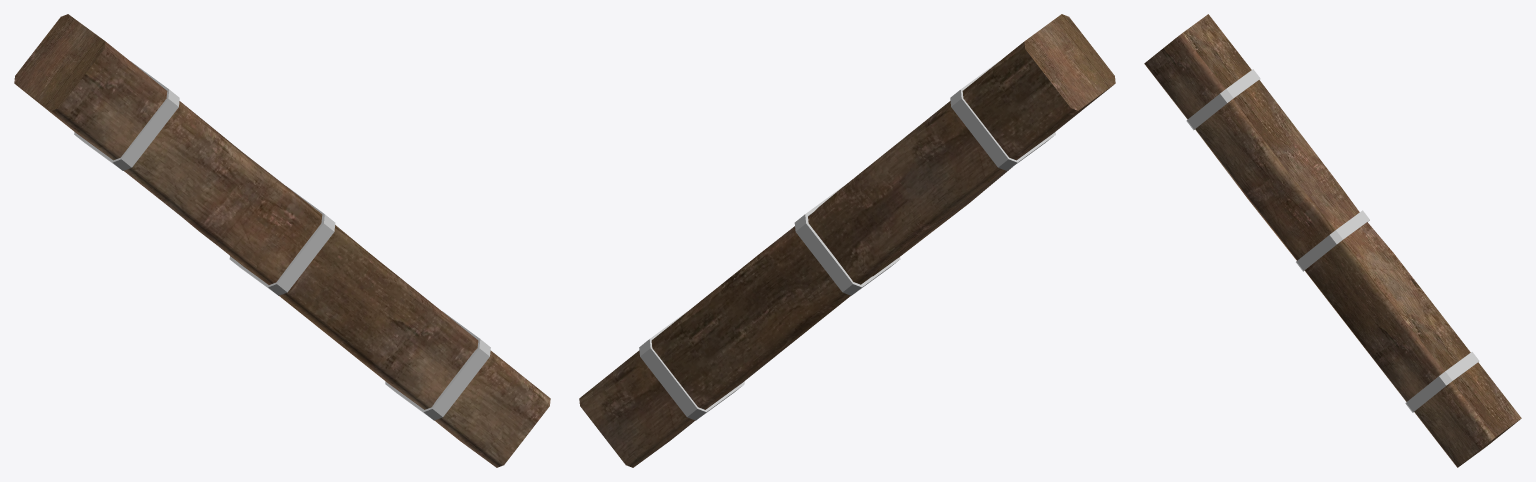
3 views of the same model, side by side, from view 1: azimuth 30°, elevation 25°; view 2: azimuth 150°, elevation 25°; view 3: azimuth 330°, elevation 25° (orthographic). The views are drawn at different scales.
Parts seen in each view (by area): view 1: SM_BB_T3_Extended_Beam_Thick_Large_Diagonal_LOD0; view 2: SM_BB_T3_Extended_Beam_Thick_Large_Diagonal_LOD0; view 3: SM_BB_T3_Extended_Beam_Thick_Large_Diagonal_LOD0.
Part boxes in pixels (x1,y1,x2,y2): SM_BB_T3_Extended_Beam_Thick_Large_Diagonal_LOD0: (14, 14, 550, 467); SM_BB_T3_Extended_Beam_Thick_Large_Diagonal_LOD0: (579, 14, 1115, 467); SM_BB_T3_Extended_Beam_Thick_Large_Diagonal_LOD0: (1144, 14, 1521, 467).
Size of the model in its own units: 3.4 by 3.4 by 0.5477.
